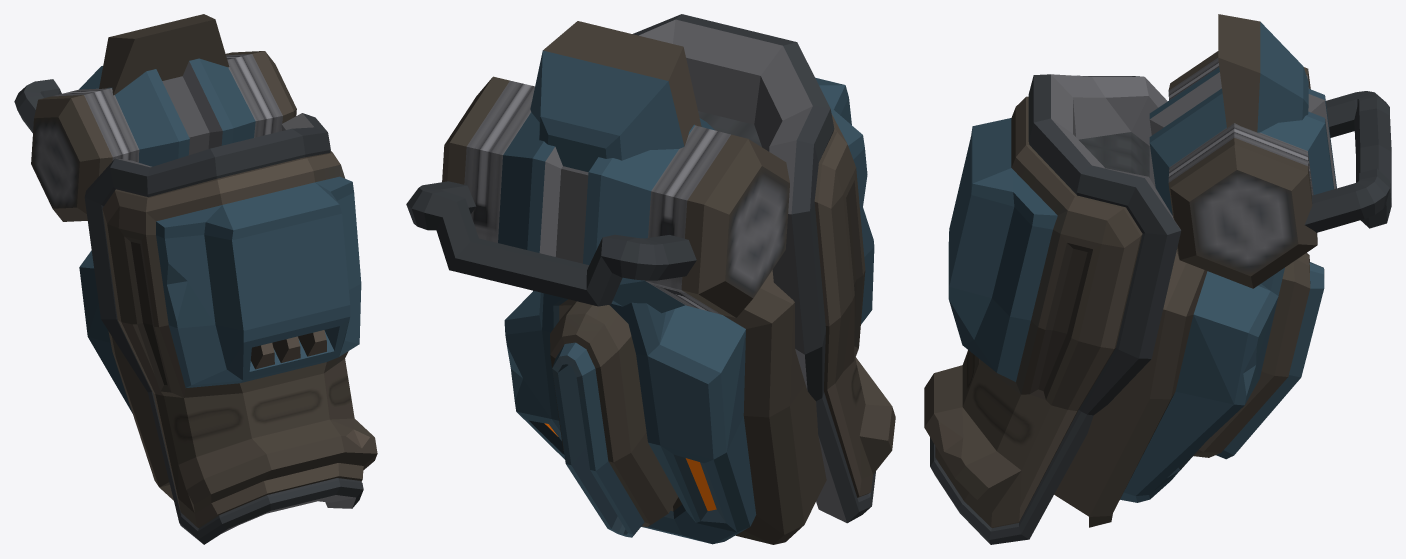
The model's file is SM_Mech_Leg_01_Armor_Shinpad_04.fbx.
3 views of the same model, side by side, from view 1: azimuth 30°, elevation 25°; view 2: azimuth 150°, elevation 25°; view 3: azimuth 270°, elevation 25° (orthographic). The views are drawn at different scales.
Visible parts, largest first — view 1: SM_Mech_Leg_01_Armor_Shinpad_04; view 2: SM_Mech_Leg_01_Armor_Shinpad_04; view 3: SM_Mech_Leg_01_Armor_Shinpad_04.
Boxes of the visible parts, x1=… form: SM_Mech_Leg_01_Armor_Shinpad_04: x1=14, y1=14, x2=377, y2=544; SM_Mech_Leg_01_Armor_Shinpad_04: x1=406, y1=14, x2=895, y2=544; SM_Mech_Leg_01_Armor_Shinpad_04: x1=924, y1=14, x2=1391, y2=544.
Size of the model in its own units: 46.04 by 81.67 by 73.8.
